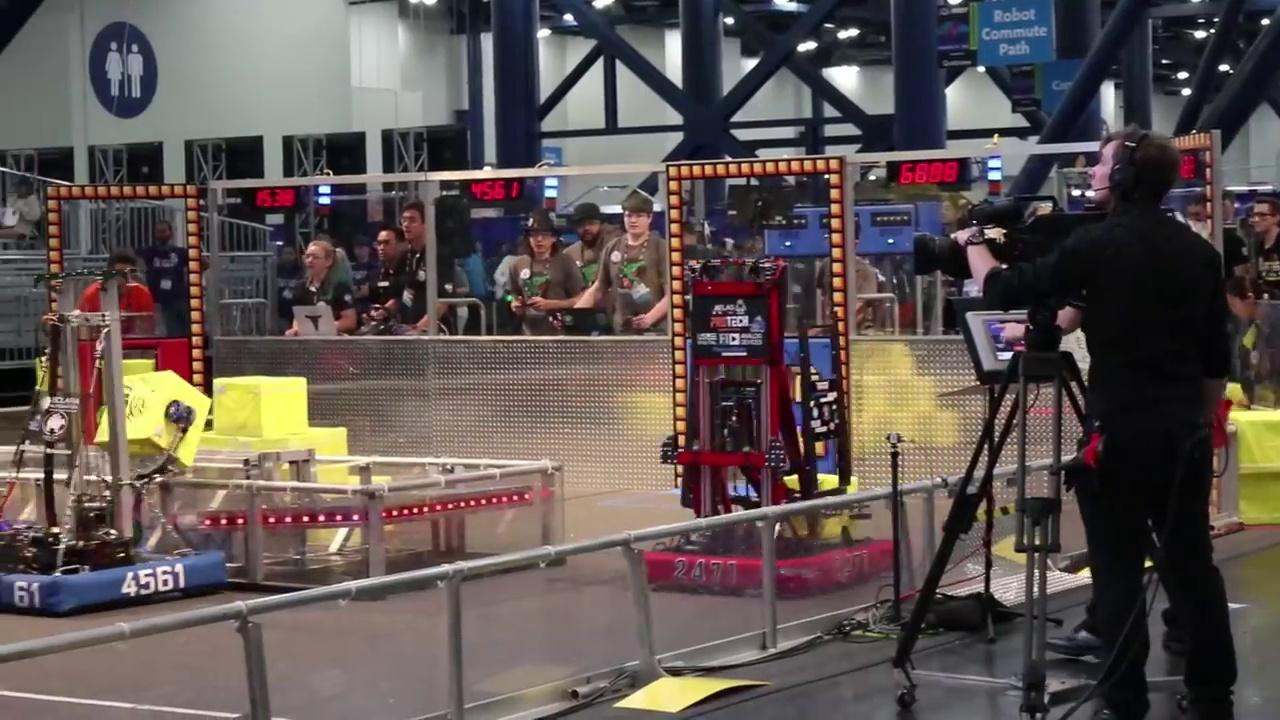robot: (632, 259, 896, 596), (0, 305, 228, 622)
